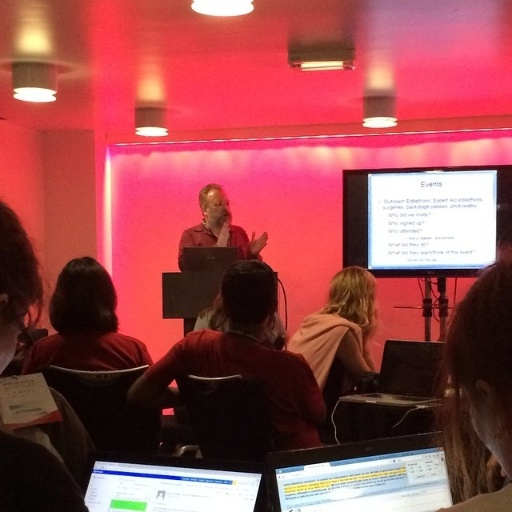hand: (248, 229, 269, 257), (214, 217, 230, 246)
